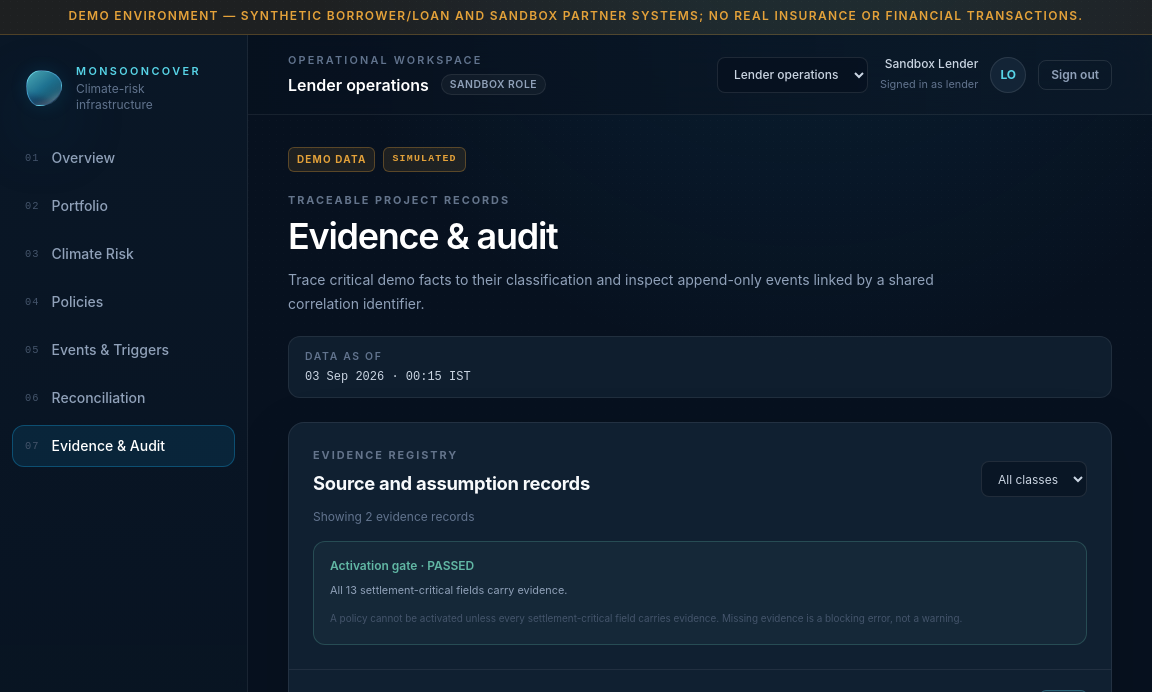
it: MonsoonCover frontend foundation › filters the real evidence registry by classification
The width and height of the screenshot is (1152, 692).
Check: the text "Showing 2 evidence records" is shown, box [313,509,474,524]
Select "Real" in the dropdown named "Filter evidence classification" at [1034, 479], box [981,461,1087,497]
(page scrolled)
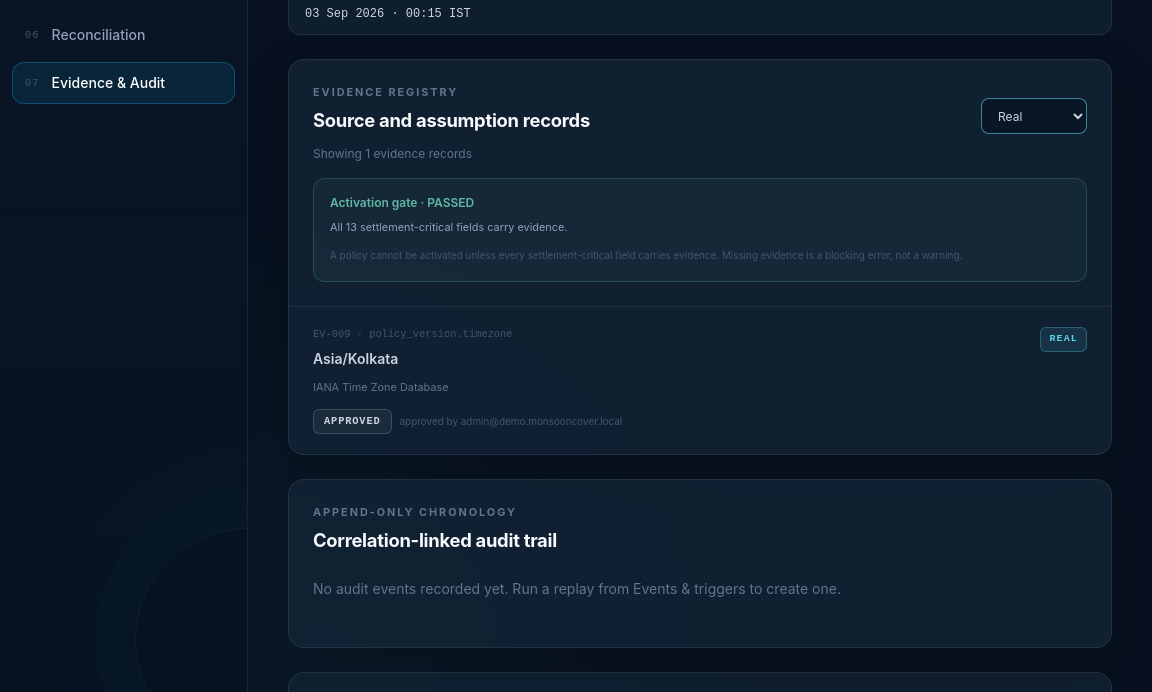
Check: the heading "Asia/Kolkata" is shown, box [313,350,398,367]
Check: the text "Showing 1 evidence records" is shown, box [313,146,472,161]
